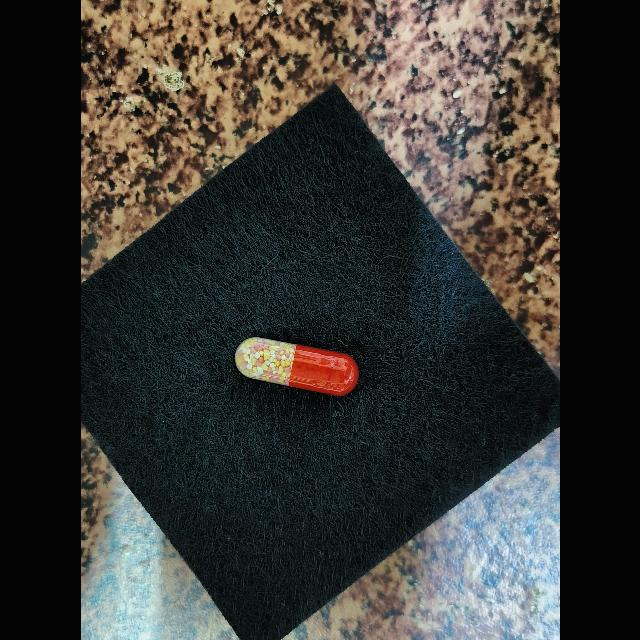Intact Capsule: (234, 337, 358, 395)
